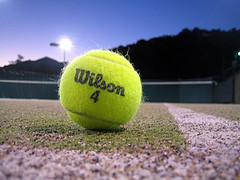tennis ball: (57, 48, 145, 133)
